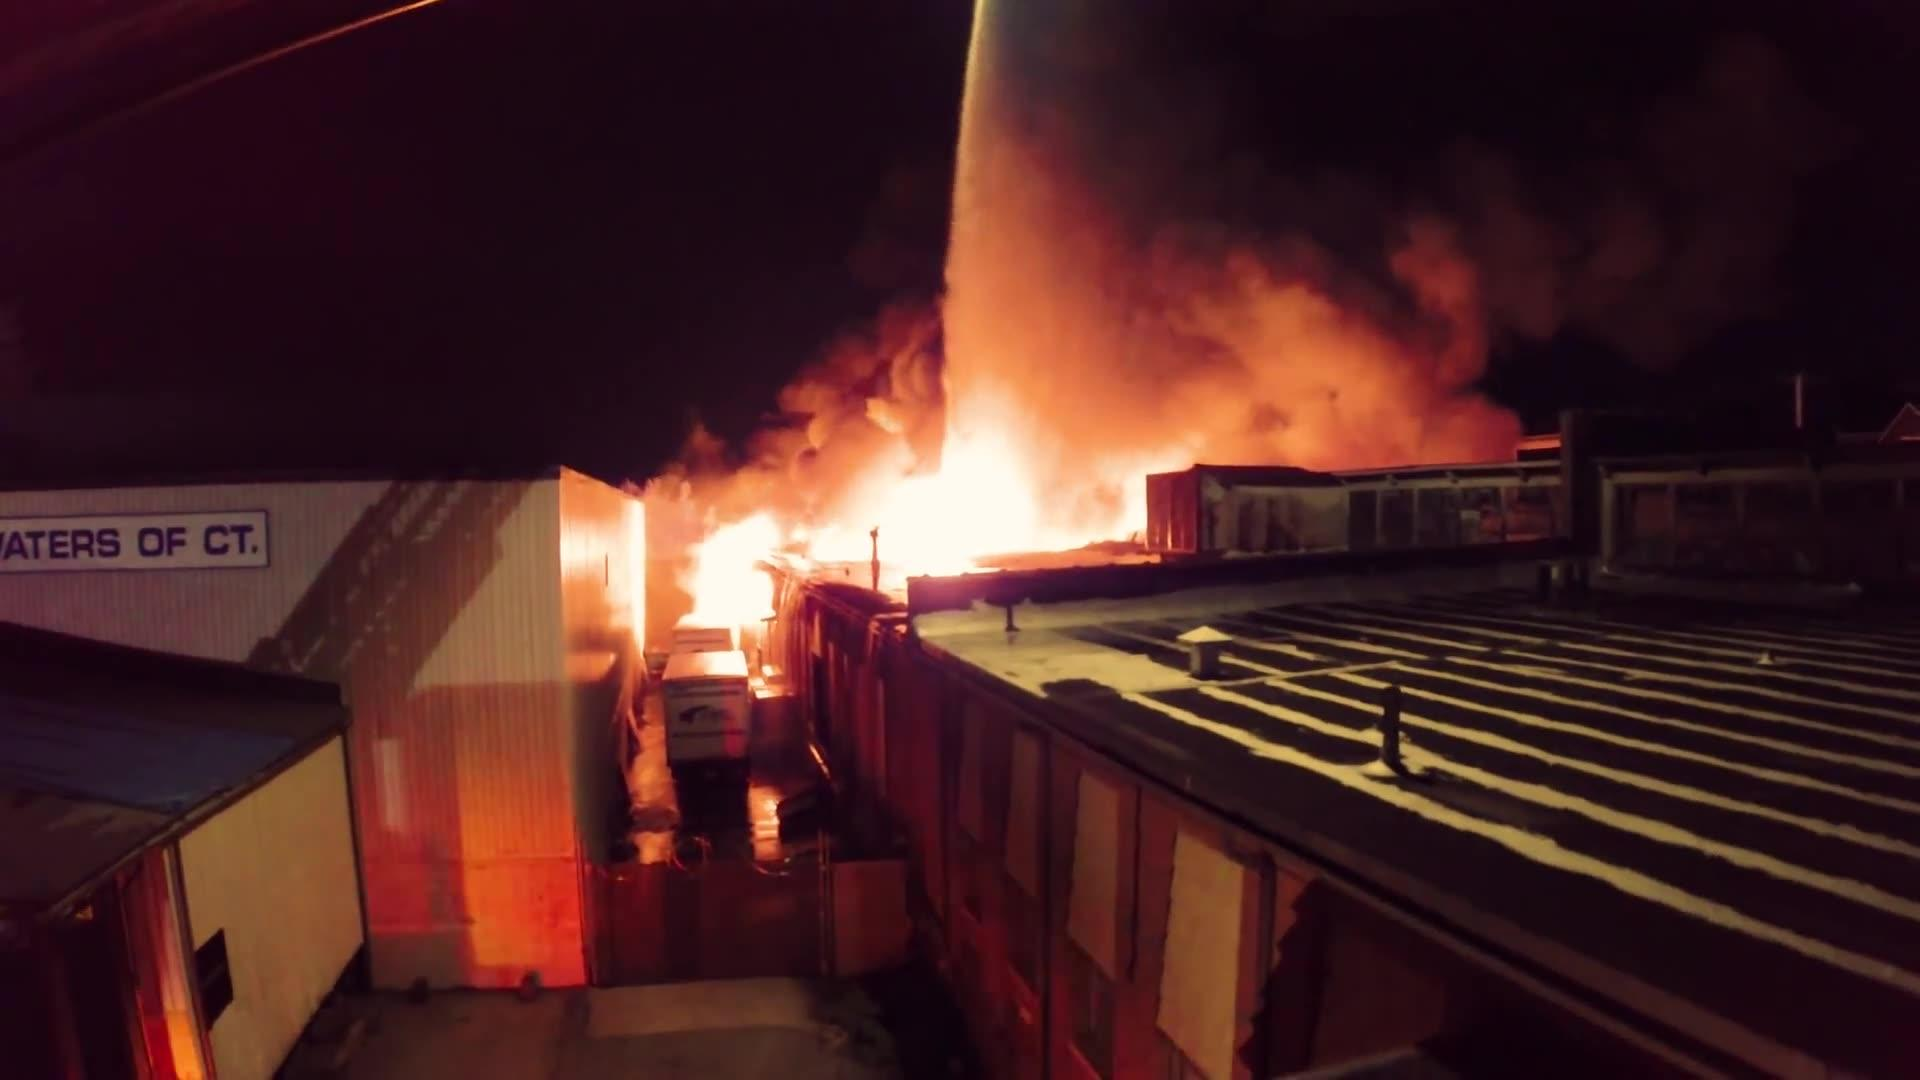fire: (968, 111, 1518, 460), (680, 475, 1126, 568)
